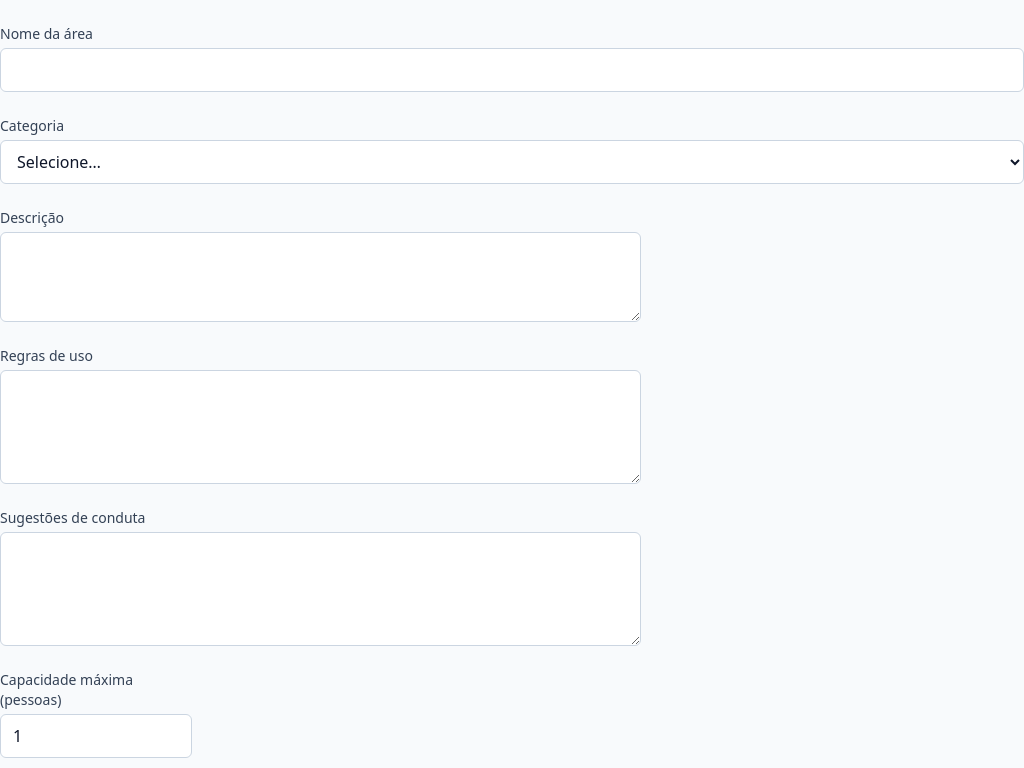
Scenario: AreaForm › pede confirmação antes de substituir regras já editadas manualmente
Select "Churrasqueira" in the dropdown labelled "Categoria" at [512, 162], box x1=0 y1=140 x2=1023 y2=184
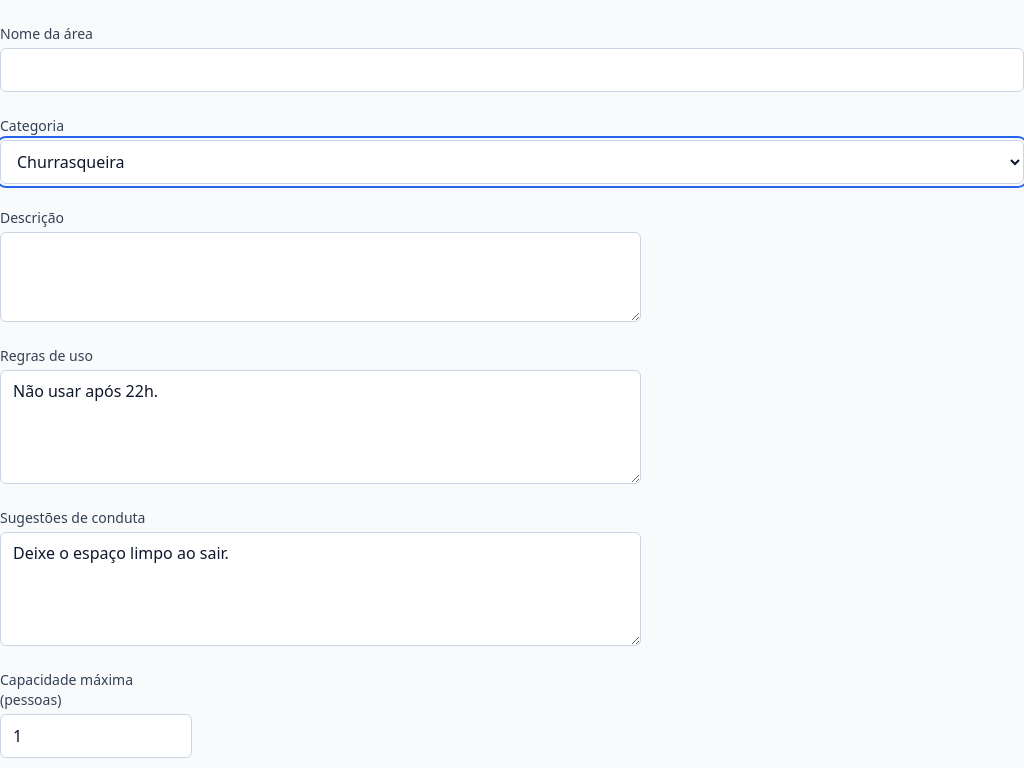
Replace the text in the text box labelled "Regras de uso" with "Regra personalizada." at [320, 427], box x1=0 y1=370 x2=641 y2=484
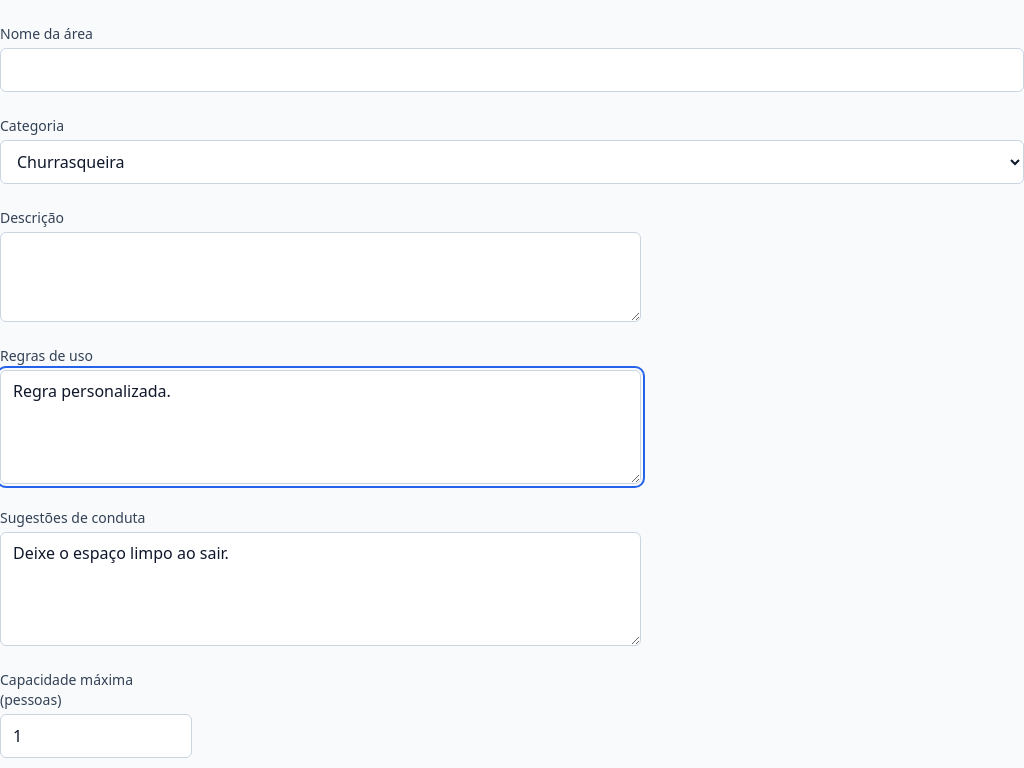
Select "Piscina" in the dropdown labelled "Categoria" at [512, 162], box x1=0 y1=140 x2=1023 y2=184
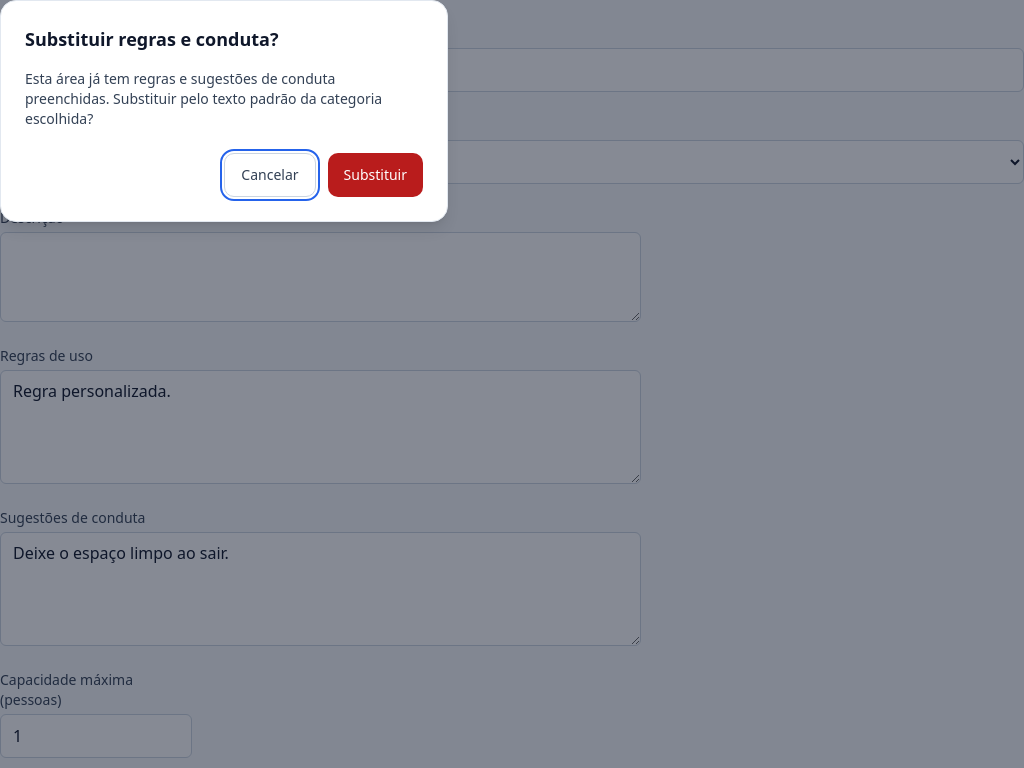
Now the dialog is shown, box x1=0 y1=0 x2=448 y2=222
Click the button "Substituir" at [375, 175], box x1=328 y1=153 x2=423 y2=197
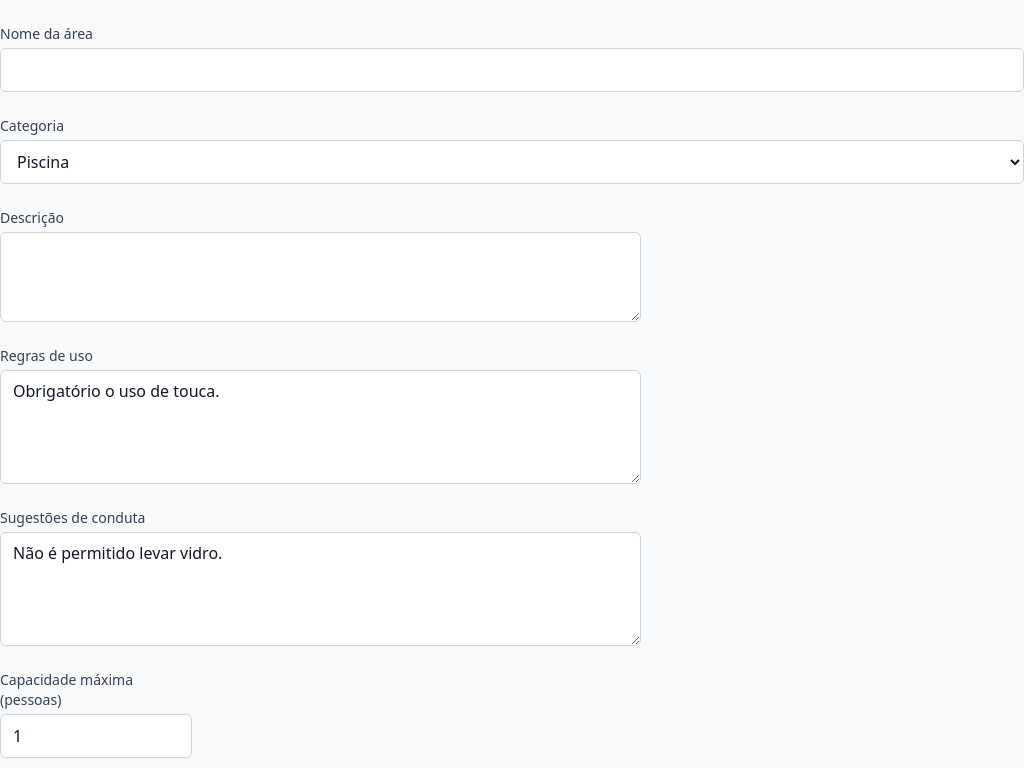
Now the text box labelled "Regras de uso" holds "Obrigatório o uso de touca.", box x1=0 y1=370 x2=641 y2=484
